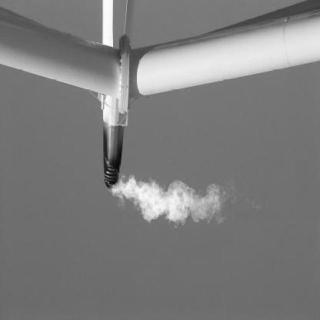Fire: (109, 172, 233, 228)
